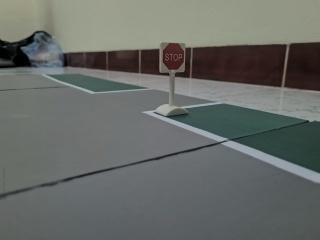stop: (155, 38, 193, 73)
